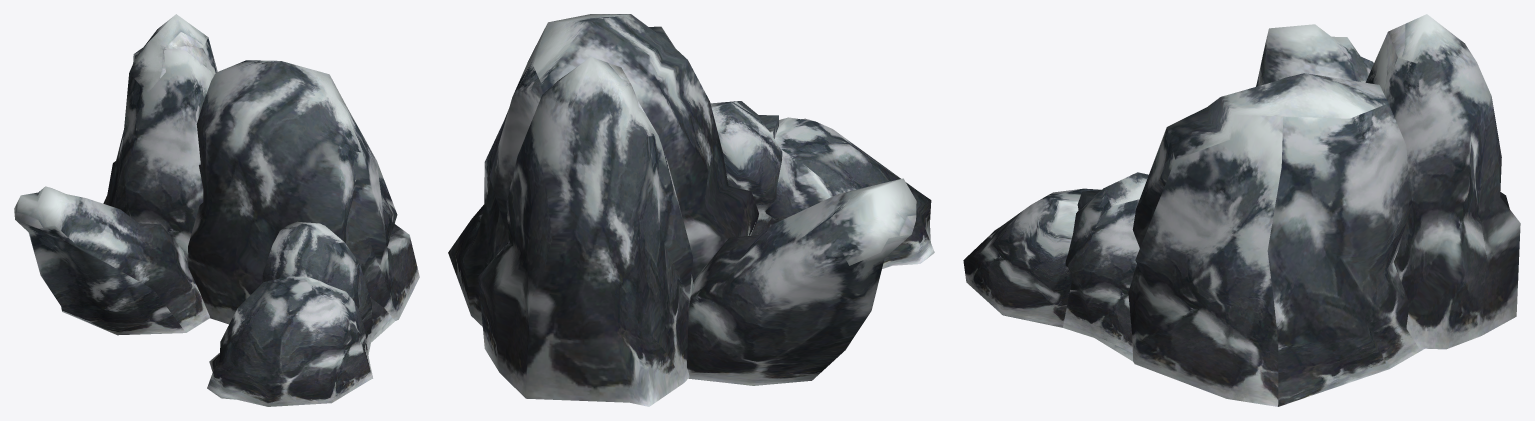
Rendered from environment_stone_xue_005B.FBX.
3 views of the same model, side by side, from view 1: azimuth 30°, elevation 25°; view 2: azimuth 150°, elevation 25°; view 3: azimuth 270°, elevation 25° (orthographic). The views are drawn at different scales.
Visible parts, largest first — view 1: environment_stone_xue_005B_02, environment_stone_xue_005B_04, environment_stone_xue_005B_01, environment_stone_xue_005B_03; view 2: environment_stone_xue_005B_03, environment_stone_xue_005B_01, environment_stone_xue_005B_02, environment_stone_xue_005B_04; view 3: environment_stone_xue_005B_02, environment_stone_xue_005B_03, environment_stone_xue_005B_04, environment_stone_xue_005B_01.
Boxes of the visible parts, <box> form: environment_stone_xue_005B_02: <box>188,60,419,324</box>; environment_stone_xue_005B_04: <box>207,221,394,406</box>; environment_stone_xue_005B_01: <box>14,186,209,335</box>; environment_stone_xue_005B_03: <box>103,14,217,255</box>; environment_stone_xue_005B_03: <box>478,57,693,406</box>; environment_stone_xue_005B_01: <box>687,178,916,385</box>; environment_stone_xue_005B_02: <box>448,14,758,326</box>; environment_stone_xue_005B_04: <box>710,101,934,268</box>; environment_stone_xue_005B_02: <box>1128,73,1424,406</box>; environment_stone_xue_005B_03: <box>1365,14,1520,349</box>; environment_stone_xue_005B_04: <box>963,172,1148,361</box>; environment_stone_xue_005B_01: <box>1256,24,1373,86</box>.
Bounding box in the file's own units: 792 × 834 × 487.
1 material, 1 textured.
